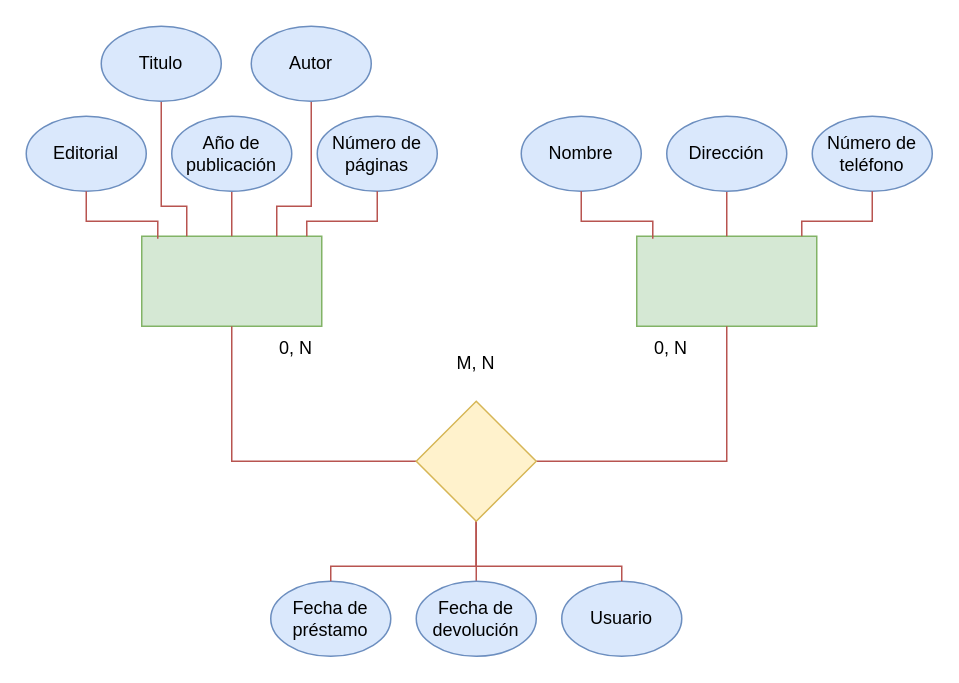
Image size: 959x683. Some labels were removed from this diagram. Here are the shapes that lost their labels. From the top down, the centre of each, then its label:
At point 231,280: "Libros".
At point 726,280: "Usuarios".
At point 475,460: "Presta".
